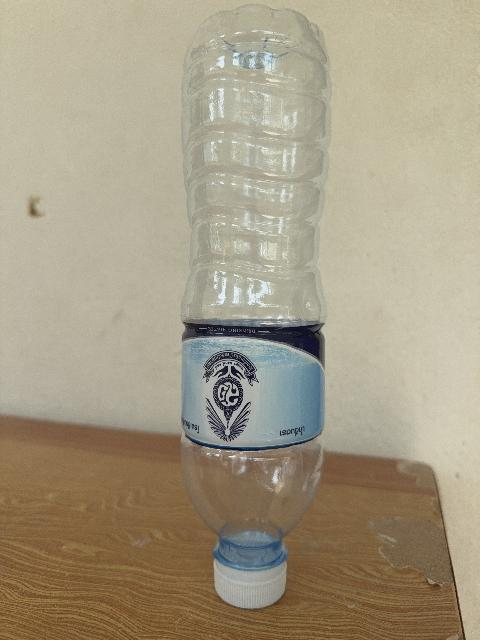bottle: (182, 5, 330, 608)
